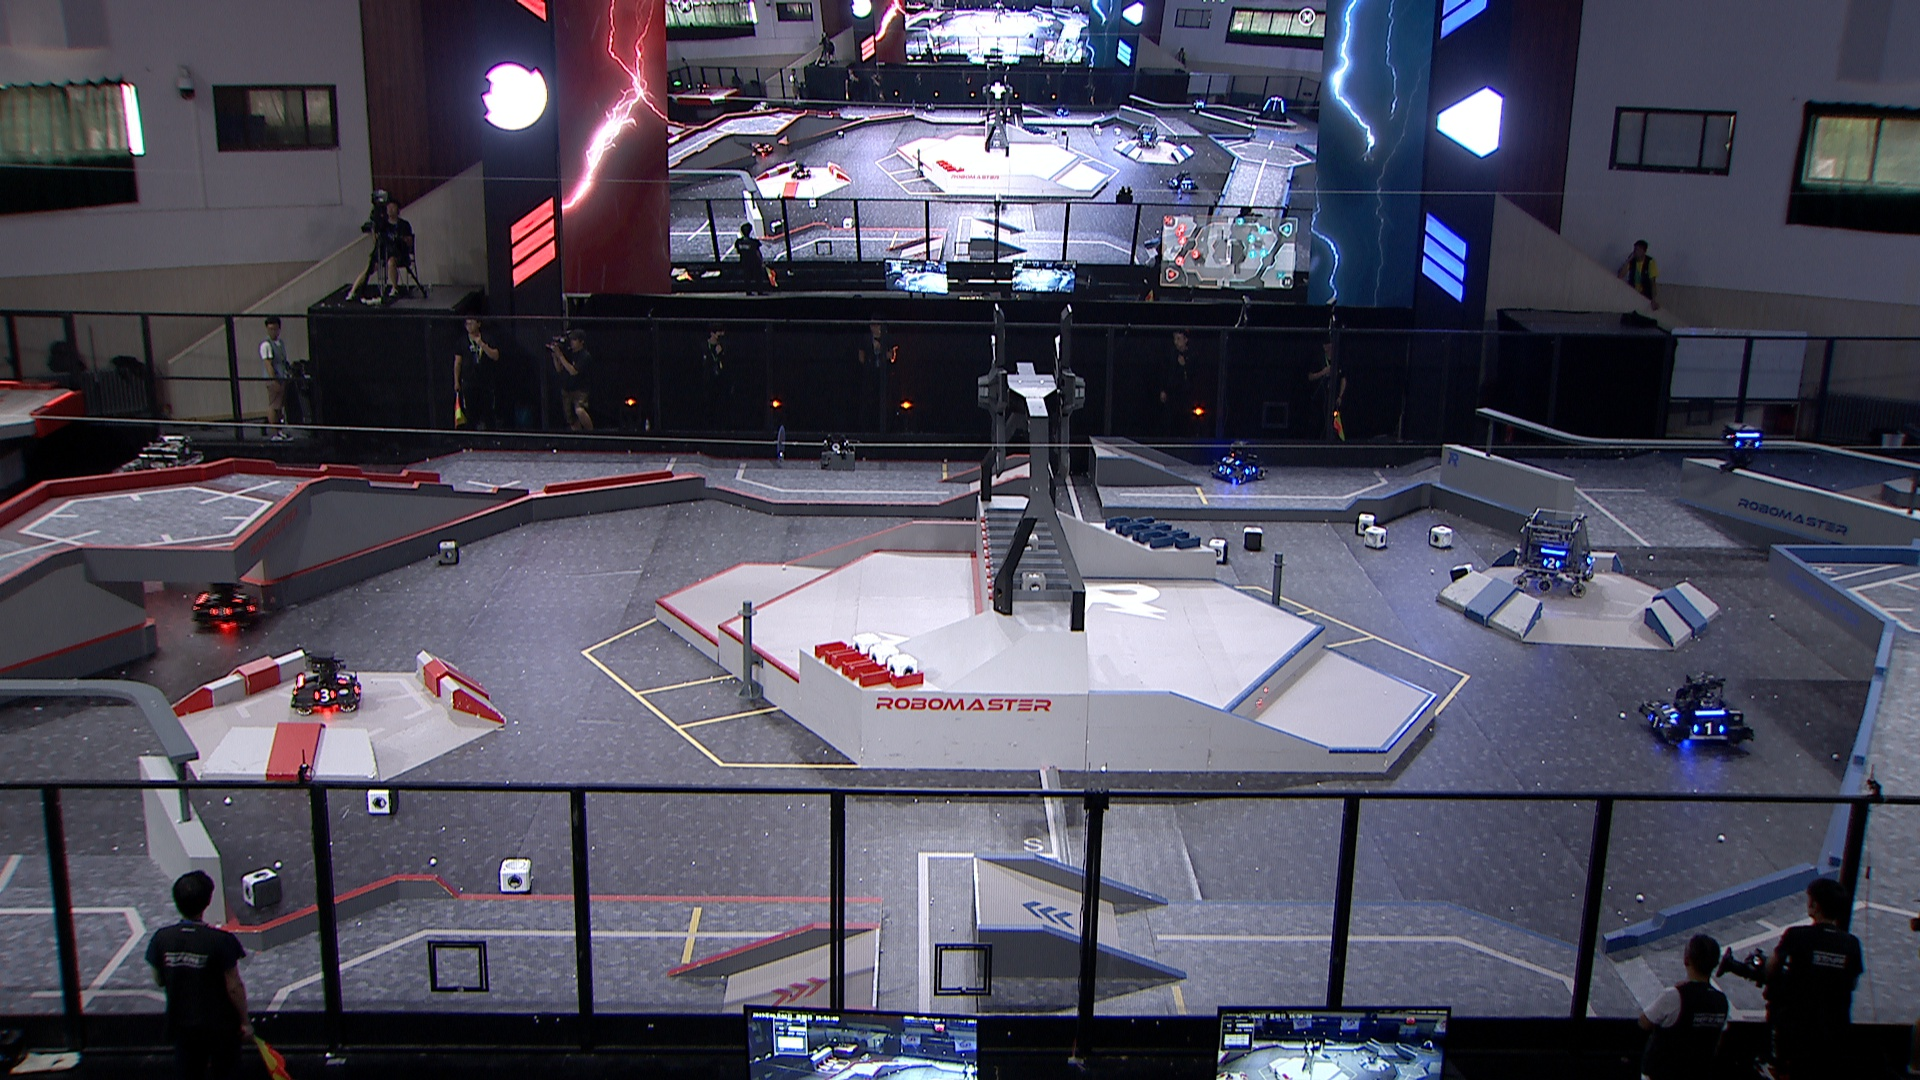armor: (1689, 721, 1726, 736), (310, 687, 340, 704), (330, 671, 353, 687), (206, 605, 233, 618), (1660, 704, 1680, 721), (1735, 438, 1760, 451), (1647, 713, 1665, 731), (1542, 556, 1565, 570), (1212, 463, 1234, 476), (1240, 463, 1257, 476), (231, 593, 247, 605), (1220, 456, 1240, 465)
car: (1636, 665, 1756, 752), (1506, 506, 1602, 597), (111, 436, 208, 522), (287, 650, 367, 713), (189, 574, 258, 629), (1207, 440, 1269, 485)
ignore: (1253, 96, 1291, 125), (1163, 167, 1201, 193), (1135, 121, 1162, 148), (789, 157, 811, 179), (752, 142, 775, 158)
watcher: (1717, 423, 1768, 476)
